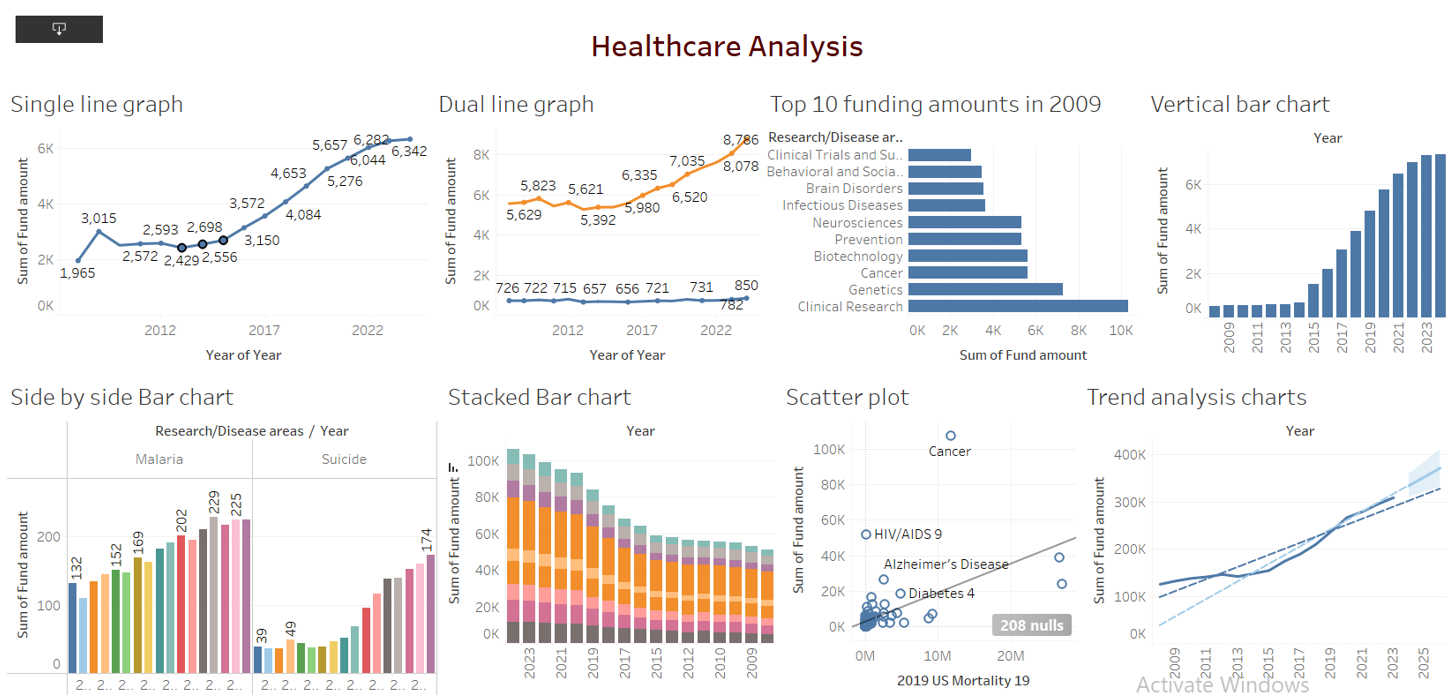

This screenshot's page, from the dashboard's own definition file:
{"tool":"tableau","page":{"name":"Dashboard 1","canvas":[1000,1000],"units":"permille","ordinal":0},"visuals":[{"type":"title","box":[4.8,10,990.3,104.9]},{"type":"dashboard-object","box":[422.8,26.2,91.9,69.9]},{"type":"worksheet","title":"Single line graph","mark":"Automatic","rows":["Pivot Field Values"],"cols":["Pivot Field Names"],"box":[4.8,114.9,292.7,448.1]},{"type":"worksheet","title":"Dual line graph","mark":"Line","rows":["Pivot Field Values"],"cols":["Pivot Field Names"],"box":[297.5,114.9,211.8,448.1]},{"type":"worksheet","title":"Horizontal bar chart","mark":"Bar","rows":["Research/Disease Areas   (Dollars in millions and rounded)"],"cols":["Pivot Field Values"],"box":[509.4,114.9,266.8,448.1]},{"type":"worksheet","title":"Vertical bar chart","mark":"Bar","rows":["Pivot Field Values"],"cols":["Pivot Field Names"],"box":[776.1,114.9,219,448.1]},{"type":"worksheet","title":"Side by side Bar chart","mark":"Bar","rows":["Pivot Field Values"],"cols":["Research/Disease Areas   (Dollars in millions and rounded)","Pivot Field Names"],"box":[4.8,563,299.3,427]},{"type":"worksheet","title":"Stacked Bar chart","mark":"Bar","rows":["Pivot Field Values"],"cols":["Pivot Field Names"],"box":[304.2,563,231.1,427]},{"type":"worksheet","title":"Scatter plot","mark":"Automatic","rows":["Pivot Field Values"],"cols":["2019 US Mortality 19"],"box":[535.3,563,205.8,427]},{"type":"worksheet","title":"Trend analysis charts","mark":"Automatic","rows":["Pivot Field Values"],"cols":["Pivot Field Names"],"box":[741.1,563,254,427]}]}

Visuals, with their boxes on the dashboard's canvas, which has no fixed pixel size, in thousandths of its width and height (x1, y1, x2, y2). These are canvas units, not pixel positions in the 1456x700 screenshot, which may show the page scaled, cropped or inside an application window:
title: pyautogui.locateOnScreen(5, 10, 995, 115)
dashboard-object: pyautogui.locateOnScreen(423, 26, 515, 96)
"Single line graph" worksheet: pyautogui.locateOnScreen(5, 115, 298, 563)
"Dual line graph" worksheet (Line marks): pyautogui.locateOnScreen(298, 115, 509, 563)
"Horizontal bar chart" worksheet (Bar marks): pyautogui.locateOnScreen(509, 115, 776, 563)
"Vertical bar chart" worksheet (Bar marks): pyautogui.locateOnScreen(776, 115, 995, 563)
"Side by side Bar chart" worksheet (Bar marks): pyautogui.locateOnScreen(5, 563, 304, 990)
"Stacked Bar chart" worksheet (Bar marks): pyautogui.locateOnScreen(304, 563, 535, 990)
"Scatter plot" worksheet: pyautogui.locateOnScreen(535, 563, 741, 990)
"Trend analysis charts" worksheet: pyautogui.locateOnScreen(741, 563, 995, 990)
